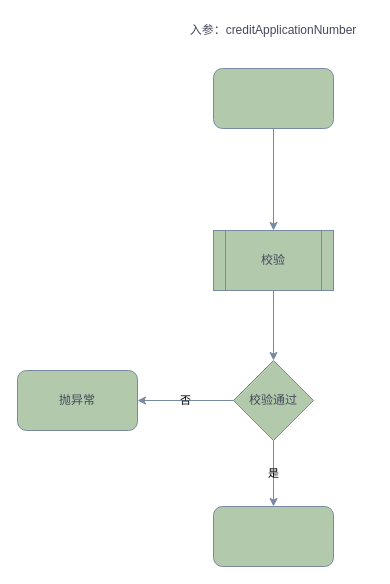
This 390x584 diagram has some shape labels left out. Here are the shapes that lost their labels. From the top down, the centre of each, then its label:
(273,98): submit
(273,536): 结束
